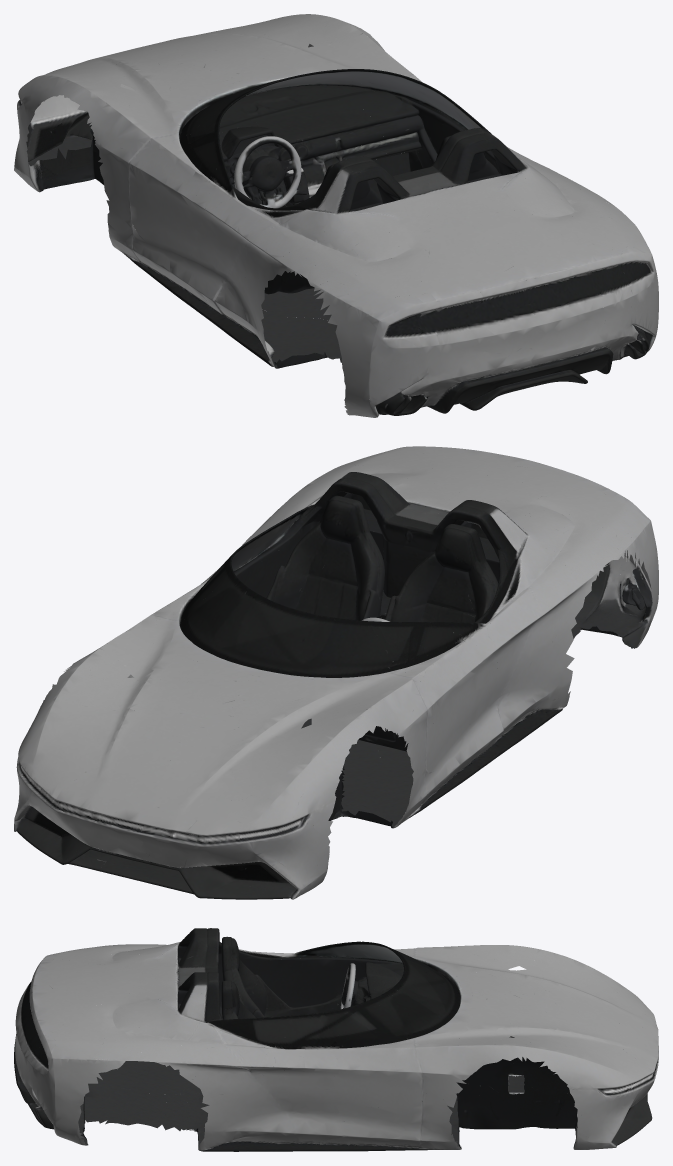
The model's file is comet.glb.
3 views of the same model, one above another, from view 1: azimuth 30°, elevation 25°; view 2: azimuth 150°, elevation 25°; view 3: azimuth 270°, elevation 25° (orthographic). The views are drawn at different scales.
Visible parts, largest first — view 1: body; view 2: body; view 3: body.
Boxes of the visible parts, left/top/right/bottom form: body: left=14, top=14, right=658, bottom=417; body: left=14, top=446, right=658, bottom=899; body: left=14, top=928, right=658, bottom=1151.
Size of the model in its own units: 2.2 by 1.22 by 4.99.
1 material, 1 textured.
